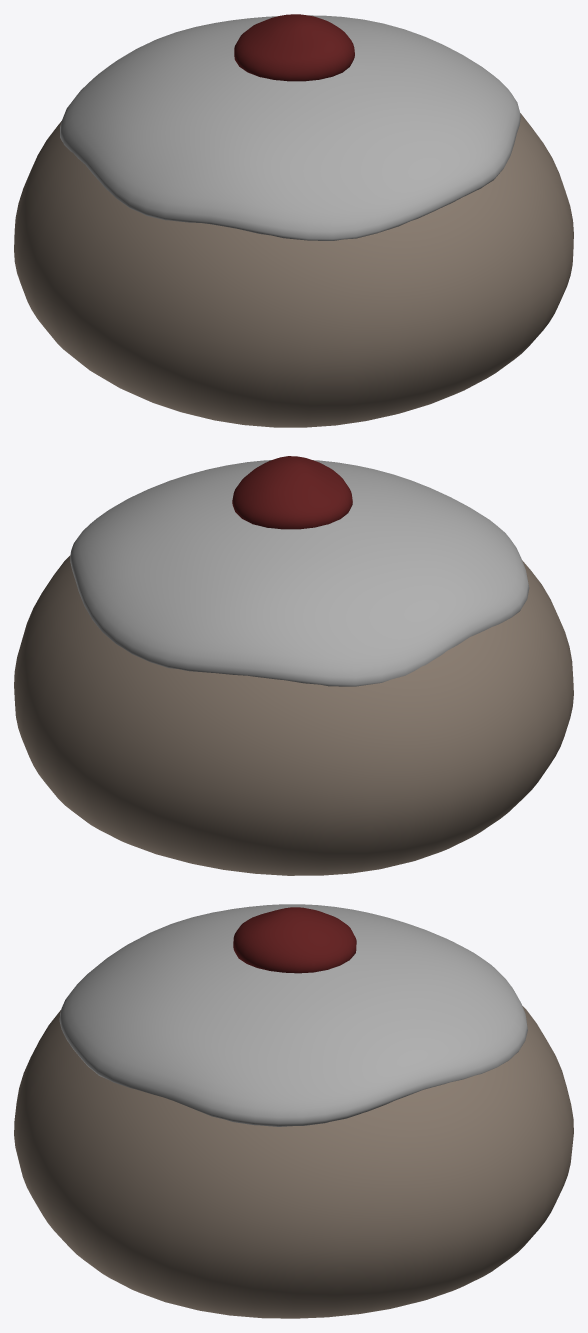
The model's file is Sufgi_002.fbx.
3 views of the same model, one above another, from view 1: azimuth 30°, elevation 25°; view 2: azimuth 150°, elevation 25°; view 3: azimuth 270°, elevation 25° (orthographic).
Parts seen in each view (by area): view 1: Sufgi_005; view 2: Sufgi_005; view 3: Sufgi_005.
Boxes of the visible parts, bbox=[...] form: Sufgi_005: bbox=[14, 14, 573, 427]; Sufgi_005: bbox=[14, 456, 573, 875]; Sufgi_005: bbox=[14, 904, 573, 1318].
Bounding box in the file's own units: 3.67 × 2.54 × 3.67.
